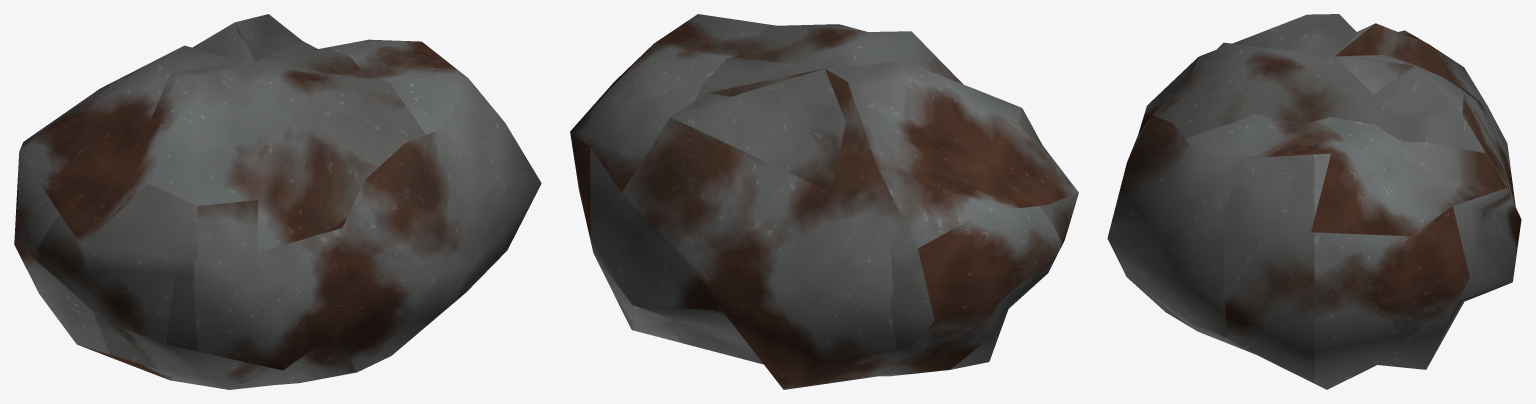
The model's file is NT05_boulders_v3.glb.
3 renders of one model, left to right at view 1: azimuth 30°, elevation 25°; view 2: azimuth 150°, elevation 25°; view 3: azimuth 270°, elevation 25°, orthographic. The views are drawn at different scales.
Parts seen in each view (by area): view 1: NT05_boulders_v3; view 2: NT05_boulders_v3; view 3: NT05_boulders_v3.
Boxes of the visible parts, left/top/right/bottom form: NT05_boulders_v3: left=14, top=14, right=541, bottom=389; NT05_boulders_v3: left=570, top=14, right=1078, bottom=389; NT05_boulders_v3: left=1107, top=14, right=1521, bottom=389.
Bounding box in the file's own units: 2.5 × 1.56 × 2.01.
Materials: 1 (1 with a texture image).
